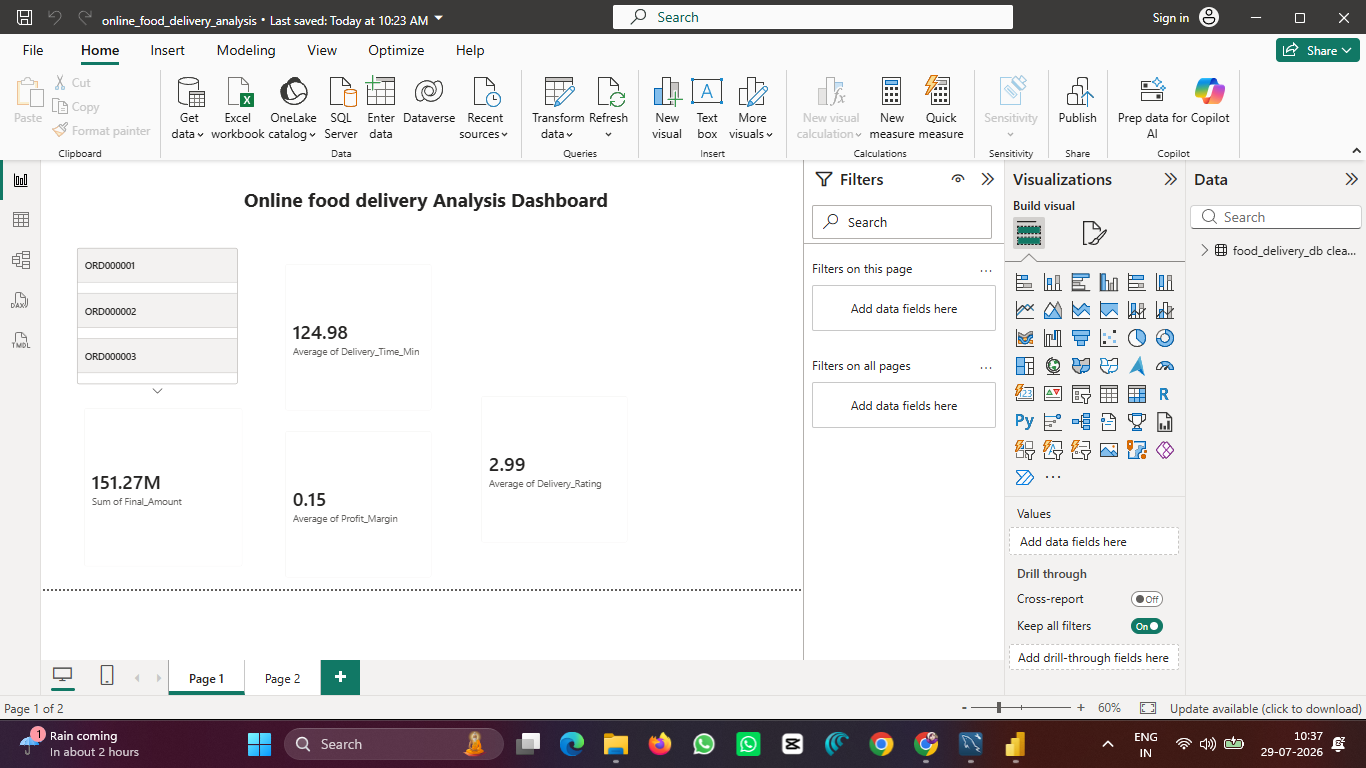

Layout of this report page (visuals, bound fields, positions):
{"tool":"powerbi","page":{"name":"Page 1","canvas":[1280,720],"ordinal":0},"visuals":[{"type":"cardVisual","fields":{"Rows":["food_delivery_db cleaned_food_delivery_data.Order_ID"]},"box":[55.4,122.6,280.5,280.5],"z":0},{"type":"cardVisual","fields":{"Data":["Sum(food_delivery_db cleaned_food_delivery_data.Final_Amount)"]},"box":[55.4,399.8,300.7,300.7],"z":1},{"type":"cardVisual","fields":{"Data":["Avg(food_delivery_db cleaned_food_delivery_data.Delivery_Rating)"]},"box":[722.3,379.6,280.5,280.5],"z":3},{"type":"cardVisual","fields":{"Data":["Avg(food_delivery_db cleaned_food_delivery_data.Profit_Margin)"]},"box":[393.1,438.4,280.5,280.5],"z":4},{"type":"cardVisual","fields":{"Data":["Avg(food_delivery_db cleaned_food_delivery_data.Delivery_Time_Min)"]},"box":[393.1,157.9,280.5,280.5],"z":5},{"type":"textbox","box":[336,38.6,666.9,62.2],"z":6}]}

Visuals, with their boxes on the page's 1280x720 design canvas (x1, y1, x2, y2). These are canvas units, not pixel positions in the 1366x768 screenshot, which may show the page scaled, cropped or inside an application window:
cardVisual - food_delivery_db cleaned_food_delivery_data.Order_ID: x1=55 y1=123 x2=336 y2=403
cardVisual - Sum(food_delivery_db cleaned_food_delivery_data.Final_Amount): x1=55 y1=400 x2=356 y2=700
cardVisual - Avg(food_delivery_db cleaned_food_delivery_data.Delivery_Rating): x1=722 y1=380 x2=1003 y2=660
cardVisual - Avg(food_delivery_db cleaned_food_delivery_data.Profit_Margin): x1=393 y1=438 x2=674 y2=719
cardVisual - Avg(food_delivery_db cleaned_food_delivery_data.Delivery_Time_Min): x1=393 y1=158 x2=674 y2=438
textbox: x1=336 y1=39 x2=1003 y2=101
